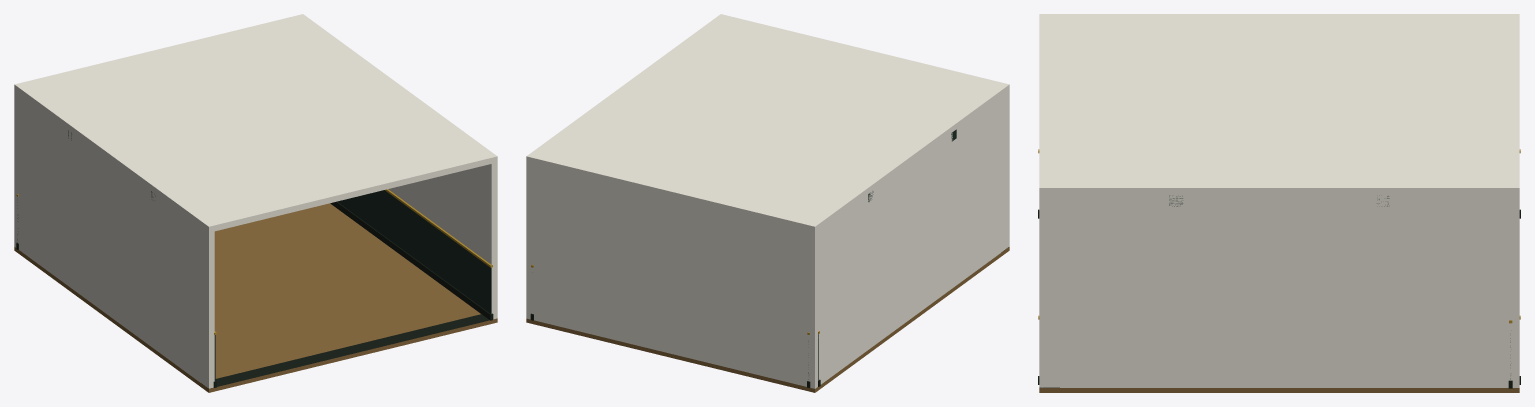
The model's file is room-shell.glb.
3 views of the same model, side by side, from view 1: azimuth 30°, elevation 25°; view 2: azimuth 150°, elevation 25°; view 3: azimuth 270°, elevation 25° (orthographic). The views are drawn at different scales.
Visible parts, largest first — view 1: ceiling, wall_left, floor, wall_right, wainscot_right, floor_border, skirting_right, wall_back, rail_right; view 2: ceiling, wall_back, wall_left, floor, wall_right; view 3: wall_right, ceiling, floor, wall_back.
Boxes of the visible parts, x1,y1,x2,y2 form: ceiling: [14, 14, 497, 232]; wall_left: [14, 91, 214, 388]; floor: [14, 203, 497, 392]; wall_right: [388, 162, 497, 319]; wainscot_right: [337, 190, 491, 313]; floor_border: [201, 314, 489, 388]; skirting_right: [330, 201, 493, 320]; wall_back: [14, 90, 17, 247]; rail_right: [385, 189, 492, 267]; ceiling: [526, 14, 1009, 232]; wall_back: [526, 162, 818, 388]; wall_left: [809, 90, 1009, 388]; floor: [526, 247, 1009, 392]; wall_right: [526, 163, 532, 317]; wall_right: [1039, 195, 1519, 387]; ceiling: [1039, 14, 1519, 195]; floor: [1039, 388, 1519, 392]; wall_back: [1511, 195, 1519, 387].
Size of the model in its own units: 6.04 by 3.3 by 7.04.
